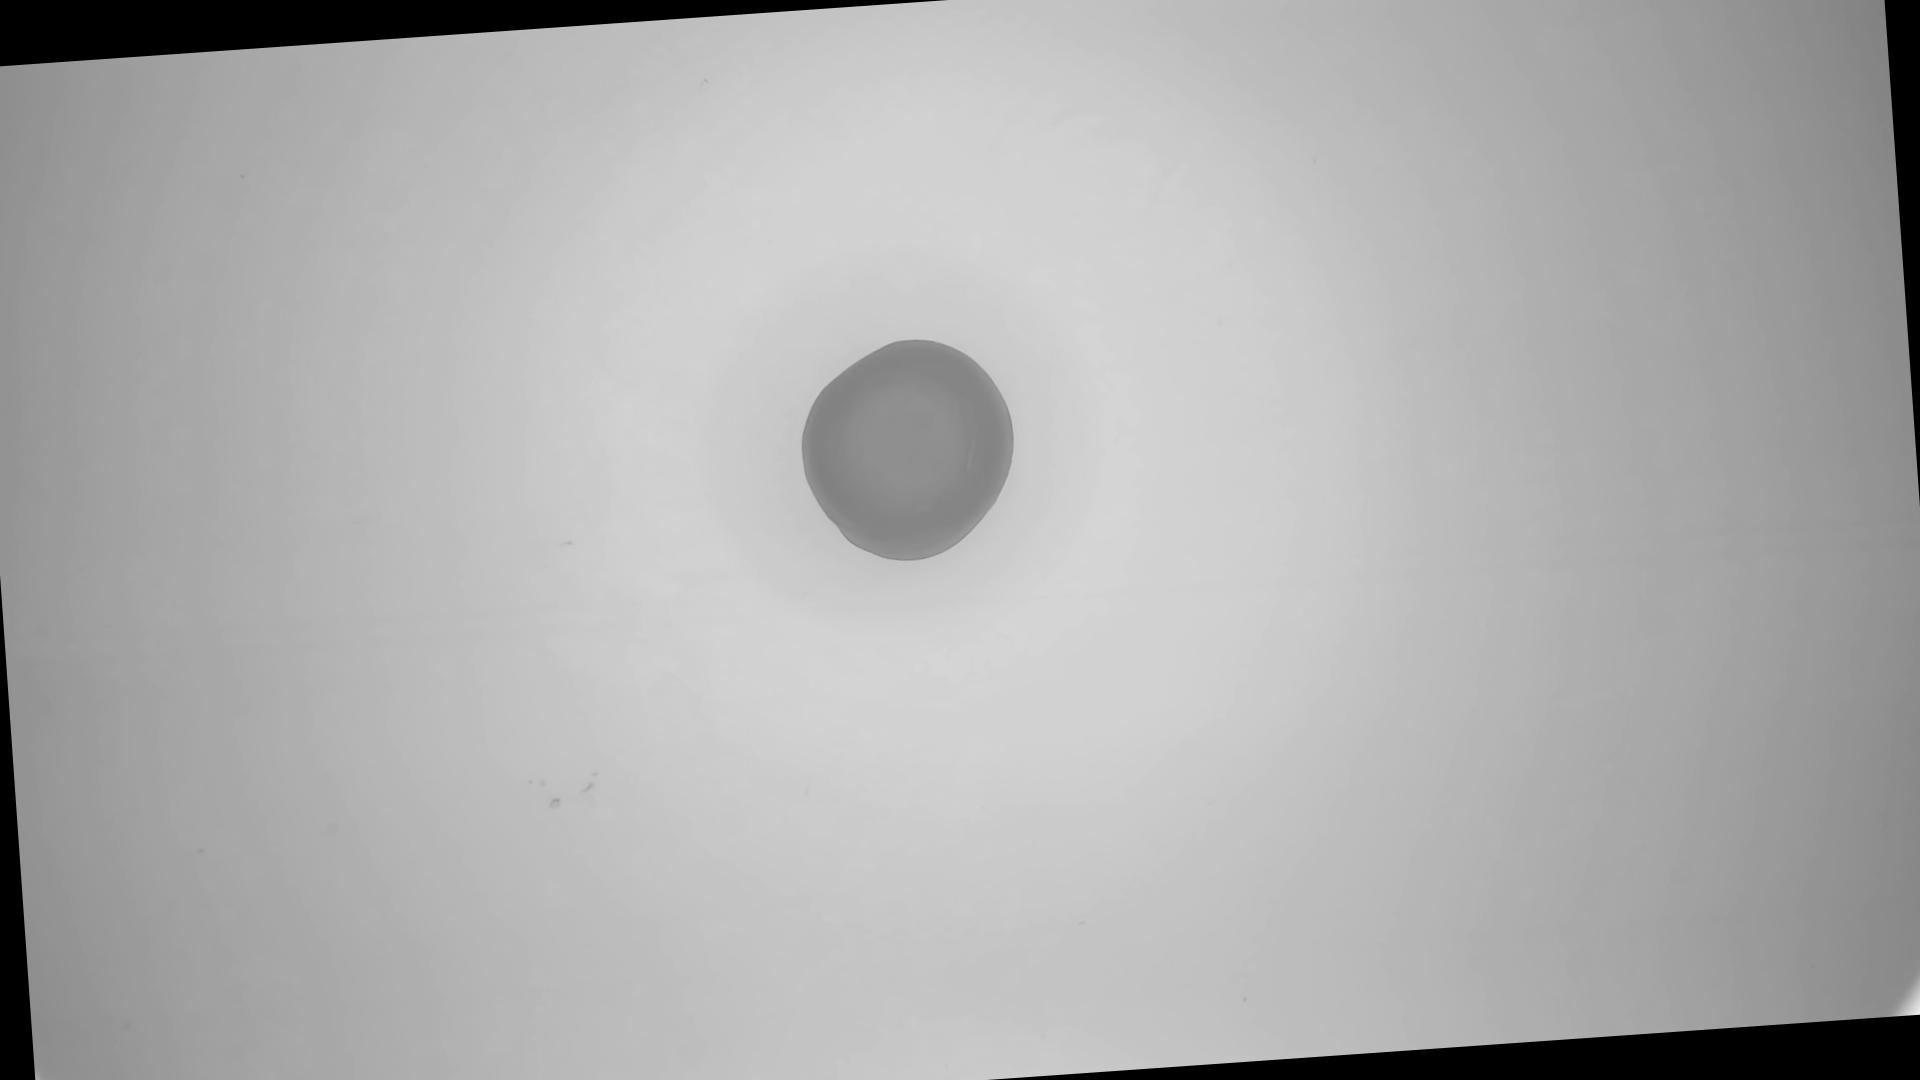normal: (793, 328, 1030, 574)
